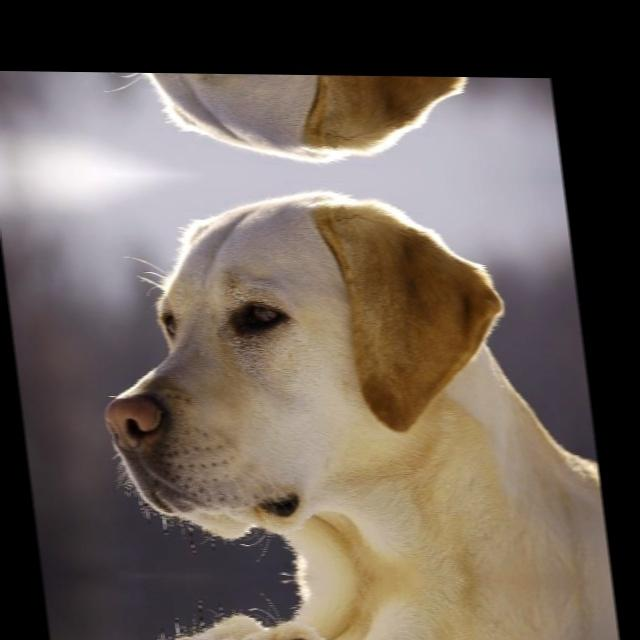dog: (70, 180, 538, 556), (58, 71, 492, 169), (122, 598, 554, 640)
